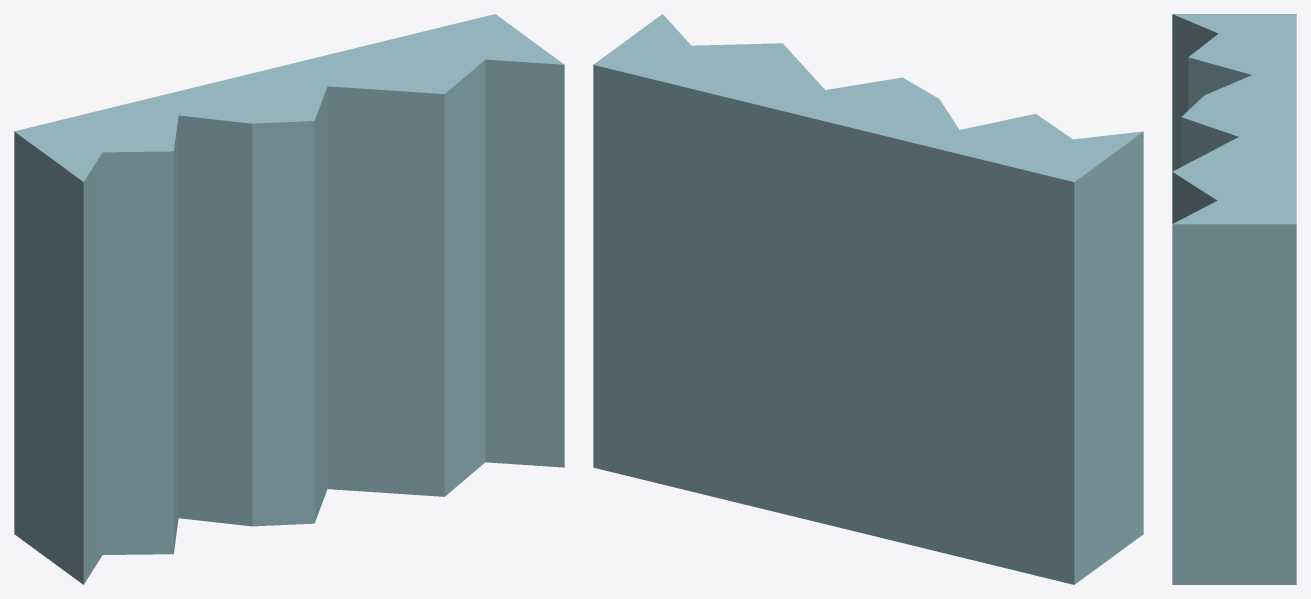
Rendered from Terrain_Modular_Tiles_Ice_Cliff_Side_02.fbx.
The picture shows the model from 3 angles, left to right: view 1: azimuth 30°, elevation 25°; view 2: azimuth 150°, elevation 25°; view 3: azimuth 270°, elevation 25°; orthographic projection. The views are drawn at different scales.
Visible parts, largest first — view 1: Terrain_Modular_Tiles_Ice_Cliff_Side_02; view 2: Terrain_Modular_Tiles_Ice_Cliff_Side_02; view 3: Terrain_Modular_Tiles_Ice_Cliff_Side_02.
Boxes of the visible parts, x1,y1,x2,y2 form: Terrain_Modular_Tiles_Ice_Cliff_Side_02: (14,14,564,584); Terrain_Modular_Tiles_Ice_Cliff_Side_02: (593,14,1143,584); Terrain_Modular_Tiles_Ice_Cliff_Side_02: (1172,14,1296,584).
Size of the model in its own units: 118 by 94.49 by 29.53.
